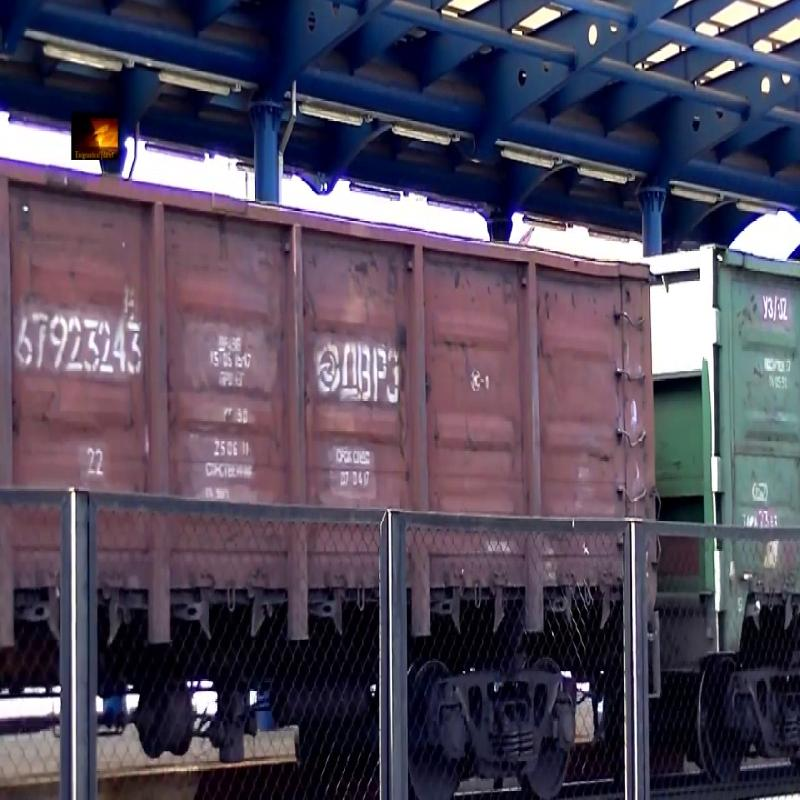train: (1, 46, 693, 765), (711, 12, 800, 758)
